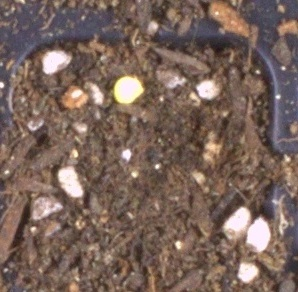chilli seed: (113, 76, 144, 105)
